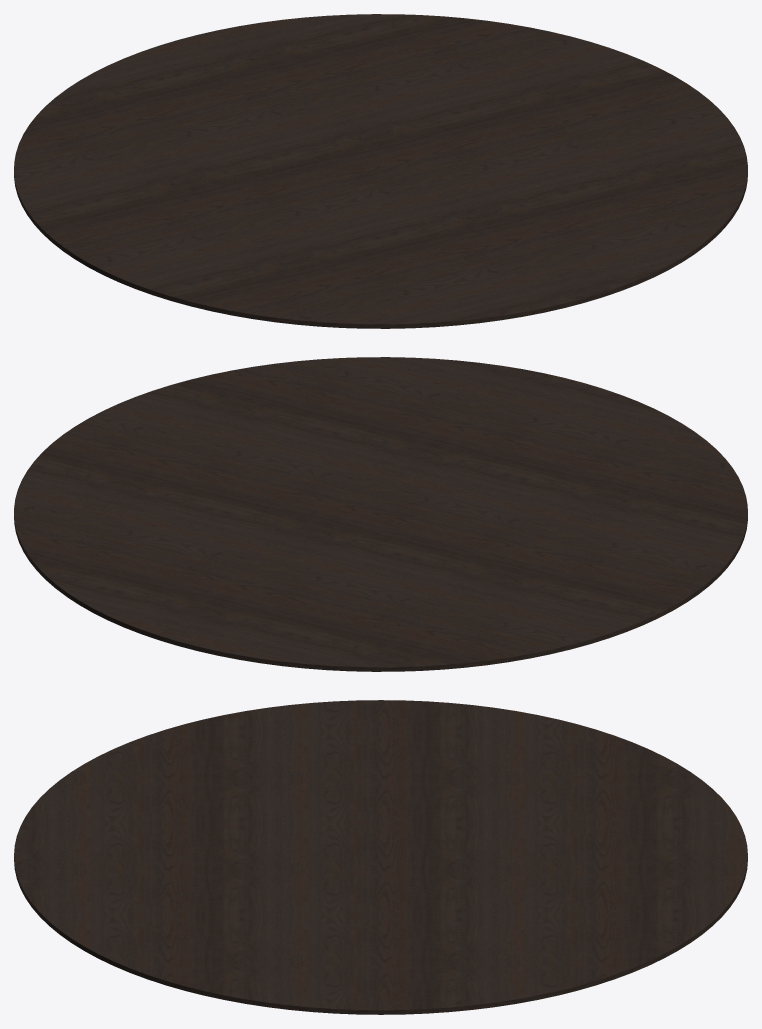
File: round_mango_wood_dark_brown.glb
3 views of the same model, one above another, from view 1: azimuth 30°, elevation 25°; view 2: azimuth 150°, elevation 25°; view 3: azimuth 270°, elevation 25° (orthographic).
Visible parts, largest first — view 1: Cylinder001; view 2: Cylinder001; view 3: Cylinder001.
Part boxes in pixels (x1,y1,x2,y2): Cylinder001: (14,14,747,328); Cylinder001: (14,357,747,671); Cylinder001: (14,700,747,1014).
Bounding box in the file's own units: 2.2 × 0.015 × 2.2.
1 material, 1 textured.
